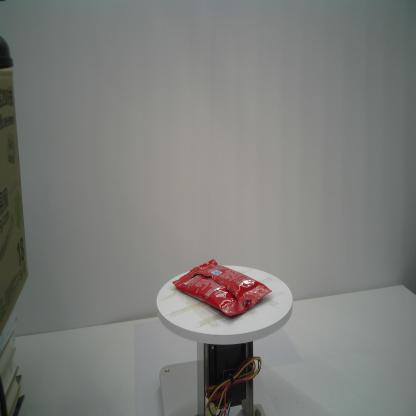Instant Drink: (172, 259, 272, 317)
